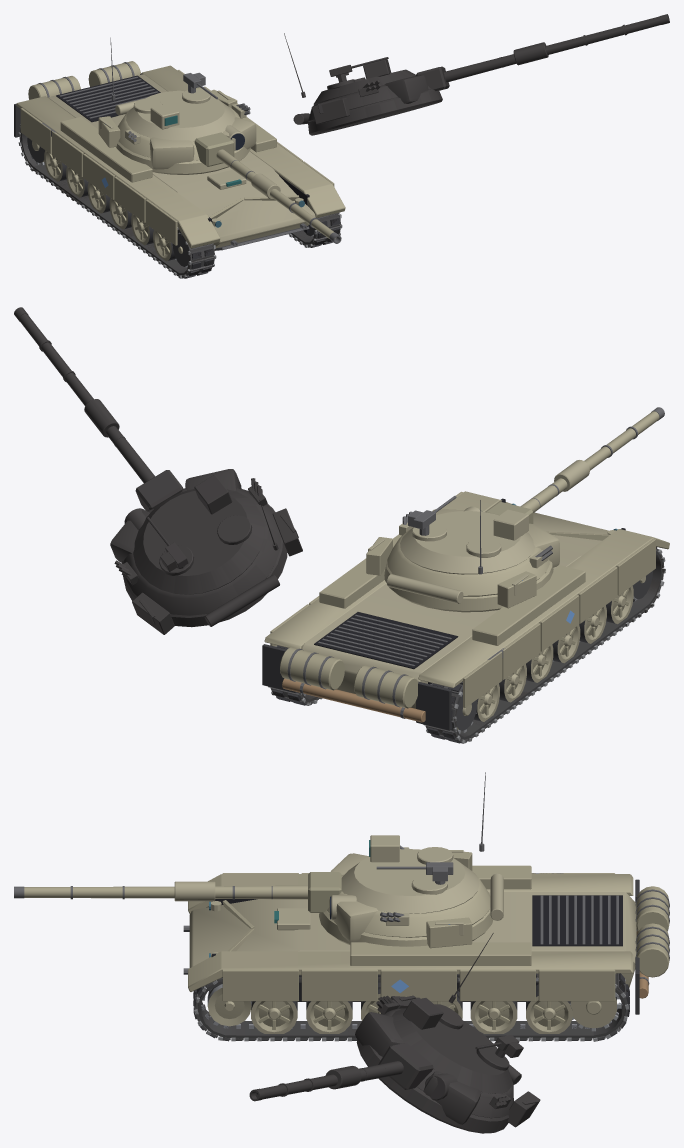
Rendered from tank__t_72.glb.
3 renders of one model, top to bottom at view 1: azimuth 30°, elevation 25°; view 2: azimuth 150°, elevation 25°; view 3: azimuth 270°, elevation 25°, orthographic. The views are drawn at different scales.
Visible parts, largest first — view 1: Hull_Mesh, Wreck, Turret_Mesh, Gun_Mesh, Track_L_Mesh, Track_R_Mesh, Gunner_Sight_Mesh, Wheel_L0_Mesh, Wheel_L2_Mesh, Wheel_L3_Mesh, Wheel_L4_Mesh, Wheel_L1_Mesh (+1 smaller); view 2: Hull_Mesh, Wreck, Turret_Mesh, Track_L_Mesh, Gun_Mesh, Gunner_Sight_Mesh, Wheel_L3_Mesh, Wheel_L5_Mesh, Wheel_L1_Mesh, Wheel_L2_Mesh, Wheel_L4_Mesh; view 3: Hull_Mesh, Wreck, Turret_Mesh, Gun_Mesh, Track_R_Mesh, Wheel_R0_Mesh, Wheel_R1_Mesh, Wheel_R4_Mesh, Wheel_R5_Mesh, Sprocket_R_Mesh, Idler_R_Mesh, Gunner_Sight_Mesh (+1 smaller).
Boxes of the visible parts, bbox=[...] form: Hull_Mesh: bbox=[14, 61, 345, 250]; Wreck: bbox=[18, 14, 669, 278]; Turret_Mesh: bbox=[98, 89, 256, 174]; Gun_Mesh: bbox=[194, 132, 341, 243]; Track_L_Mesh: bbox=[18, 124, 216, 278]; Track_R_Mesh: bbox=[289, 212, 342, 247]; Gunner_Sight_Mesh: bbox=[150, 103, 179, 129]; Wheel_L0_Mesh: bbox=[44, 150, 66, 181]; Wheel_L2_Mesh: bbox=[87, 182, 110, 213]; Wheel_L3_Mesh: bbox=[109, 198, 131, 229]; Wheel_L4_Mesh: bbox=[131, 214, 153, 245]; Wheel_L1_Mesh: bbox=[66, 166, 88, 197]; Hull_Mesh: bbox=[262, 491, 669, 730]; Wreck: bbox=[14, 307, 665, 743]; Turret_Mesh: bbox=[366, 506, 559, 612]; Track_L_Mesh: bbox=[423, 547, 665, 743]; Gun_Mesh: bbox=[486, 407, 664, 523]; Gunner_Sight_Mesh: bbox=[493, 509, 528, 540]; Wheel_L3_Mesh: bbox=[552, 625, 580, 663]; Wheel_L5_Mesh: bbox=[606, 586, 633, 624]; Wheel_L1_Mesh: bbox=[499, 664, 526, 702]; Wheel_L2_Mesh: bbox=[526, 644, 553, 682]; Wheel_L4_Mesh: bbox=[579, 605, 606, 643]; Hull_Mesh: bbox=[183, 865, 669, 1014]; Wreck: bbox=[194, 933, 629, 1133]; Turret_Mesh: bbox=[319, 849, 503, 948]; Gun_Mesh: bbox=[14, 872, 341, 912]; Track_R_Mesh: bbox=[193, 973, 629, 1041]; Wheel_R0_Mesh: bbox=[526, 984, 572, 1033]; Wheel_R1_Mesh: bbox=[470, 1001, 517, 1033]; Wheel_R4_Mesh: bbox=[306, 1001, 352, 1033]; Wheel_R5_Mesh: bbox=[251, 1001, 297, 1033]; Sprocket_R_Mesh: bbox=[570, 992, 620, 1031]; Idler_R_Mesh: bbox=[207, 984, 251, 1026]; Gunner_Sight_Mesh: bbox=[369, 835, 399, 862].
Size of what is drawn, in the model's own units: 11.46 by 3.38 by 10.13.
